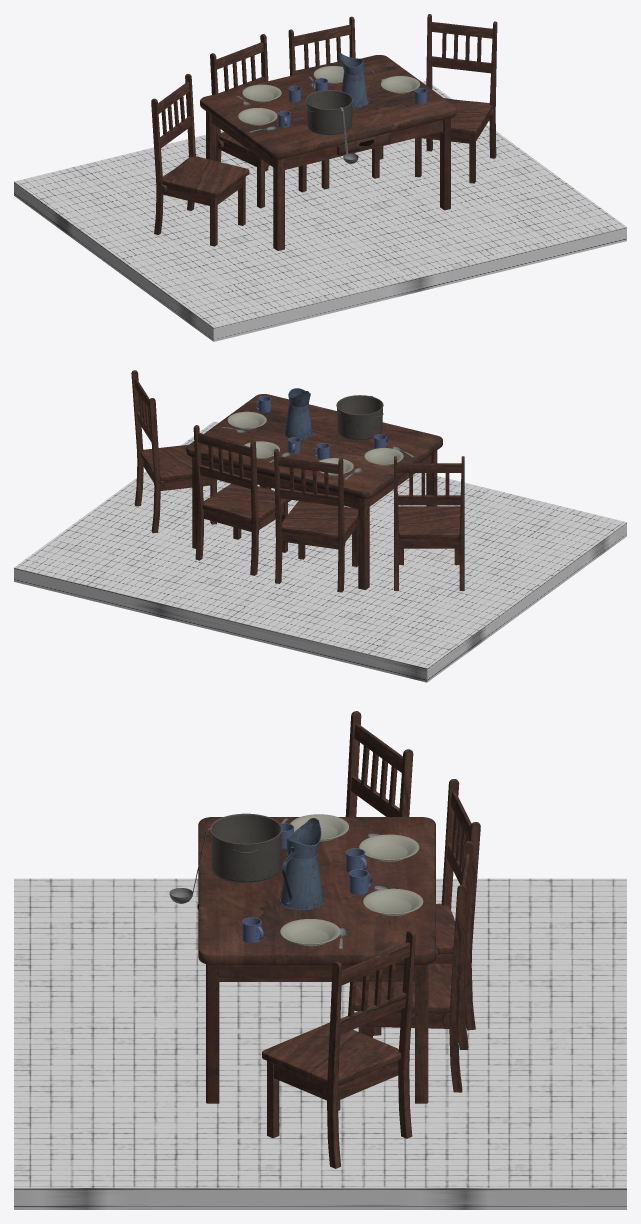
The model's file is old_kitchen_dio.glb.
The picture shows the model from 3 angles, top to bottom: view 1: azimuth 30°, elevation 25°; view 2: azimuth 150°, elevation 25°; view 3: azimuth 270°, elevation 25°; orthographic projection. The views are drawn at different scales.
Visible parts, largest first — view 1: Object_7, Object_4, Object_3, Object_8, Object_5, Object_6, Object_10; view 2: Object_7, Object_4, Object_3, Object_5, Object_8, Object_6, Object_10; view 3: Object_7, Object_4, Object_3, Object_8, Object_5, Object_6, Object_10.
Part boxes in pixels (left/top/right/bottom): Object_7: left=14, top=81, right=626, bottom=341; Object_4: left=151, top=14, right=497, bottom=246; Object_3: left=200, top=55, right=456, bottom=250; Object_8: left=238, top=66, right=419, bottom=125; Object_5: left=306, top=90, right=352, bottom=135; Object_6: left=339, top=52, right=374, bottom=108; Object_10: left=278, top=78, right=427, bottom=127; Object_7: left=14, top=421, right=626, bottom=682; Object_4: left=131, top=370, right=464, bottom=592; Object_3: left=186, top=394, right=442, bottom=589; Object_5: left=336, top=395, right=383, bottom=440; Object_8: left=227, top=411, right=403, bottom=475; Object_6: left=284, top=388, right=313, bottom=440; Object_10: left=255, top=396, right=388, bottom=459; Object_7: left=14, top=878, right=626, bottom=1209; Object_4: left=262, top=711, right=480, bottom=1168; Object_3: left=197, top=817, right=435, bottom=1103; Object_8: left=280, top=814, right=423, bottom=946; Object_5: left=210, top=813, right=282, bottom=882; Object_6: left=280, top=818, right=324, bottom=910; Object_10: left=242, top=823, right=372, bottom=942.
Size of the model in its own units: 5.15 by 1.94 by 4.31.
9 materials, 9 textured.
